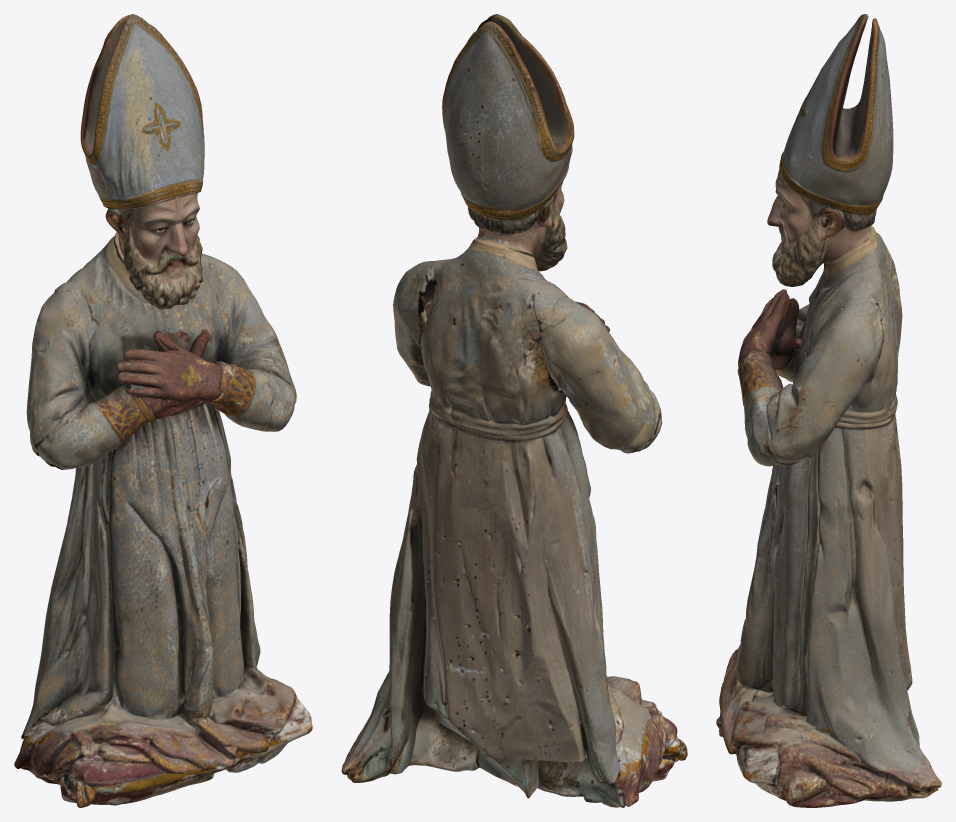
Rendered from statua-ar.glb.
3 views of the same model, side by side, from view 1: azimuth 30°, elevation 25°; view 2: azimuth 150°, elevation 25°; view 3: azimuth 270°, elevation 25° (orthographic). The views are drawn at different scales.
Size of the model in its own units: 0.374 by 1 by 0.2799.
1 material, 1 textured.
